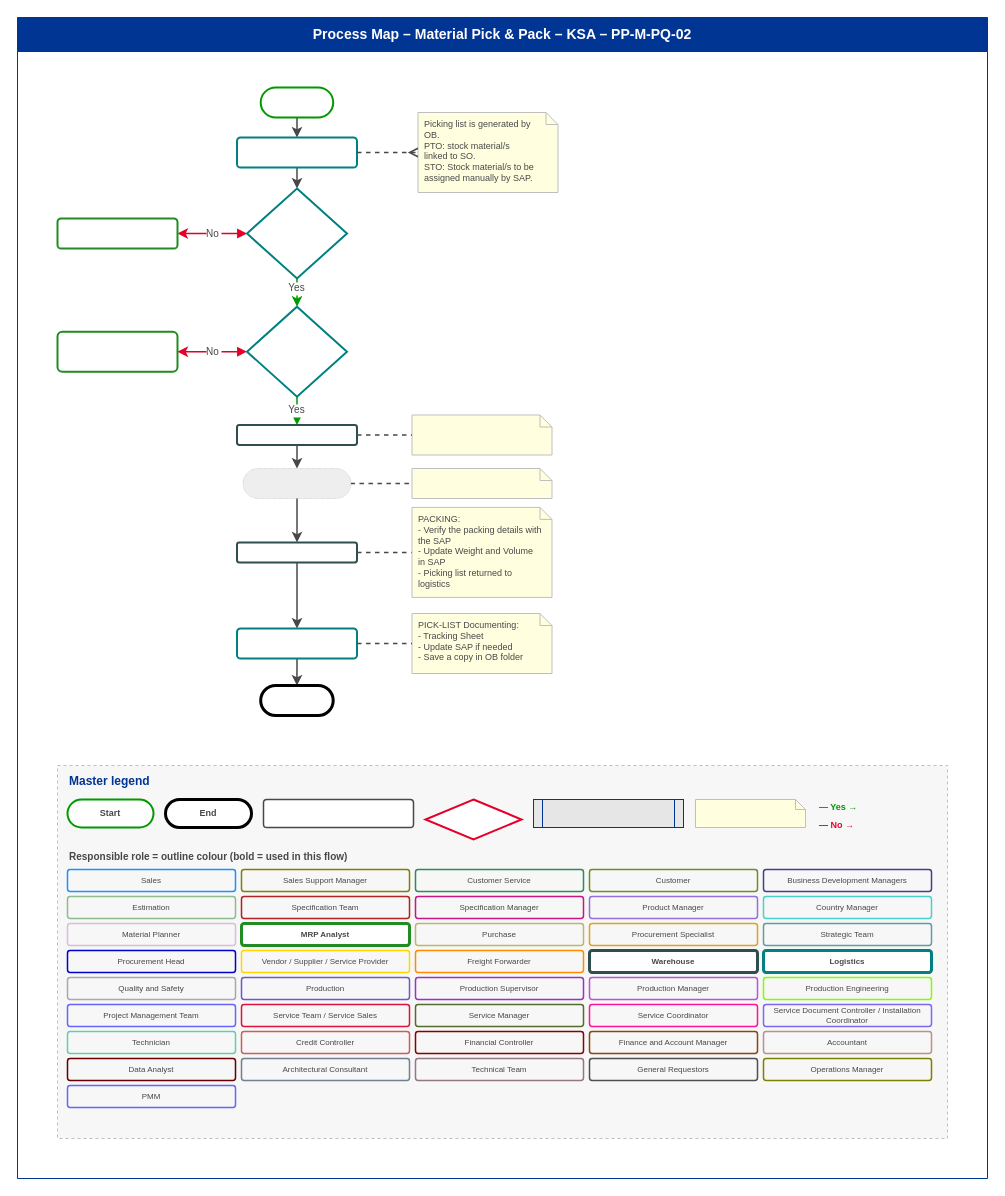
The diagram is 1005 pixels wide and 1196 high, and some of its shapes have lost their labels. Each missing label, with the centre of its shape:
2Q CHECK Ref S#: WL-S-QC-02: the point at 296,483
Activity (outline = role): the point at 338,813
Customer Service to provide missing information!: the point at 117,351
Customer Service to released OB!: the point at 117,233
Decision: the point at 473,819
Documenting Picking List: the point at 297,643
EXIT: the point at 296,700
Linked process (Ref ID): the point at 608,813
Materials Packed: the point at 297,552
Materials Picked: the point at 297,435
Note / checklist: the point at 750,813
Outbound (OB) Released?: the point at 297,233
PICK & PACK: the point at 296,102
Picking List is received by Logistics: the point at 297,152
Picking List verified as per CHECK-LIST ?: the point at 297,351
Update PICK-LIST: Note Start & End Time: the point at 481,483
VALIDATE PICK-LIST: - Note the Discrepancy: the point at 481,434
